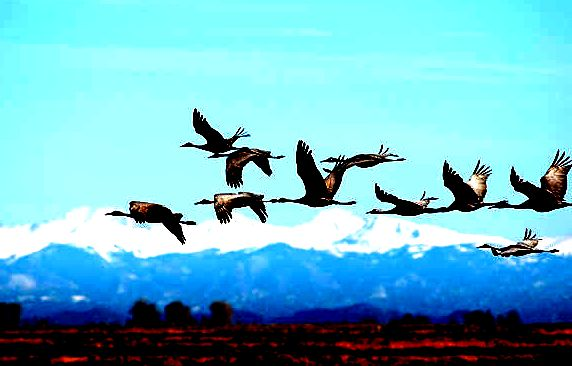Bird: (269, 140, 355, 209), (488, 148, 570, 214), (103, 195, 197, 246), (430, 155, 508, 213), (173, 106, 250, 153), (366, 175, 441, 220), (202, 147, 286, 186), (473, 226, 563, 261), (192, 190, 273, 225), (320, 144, 405, 172)
